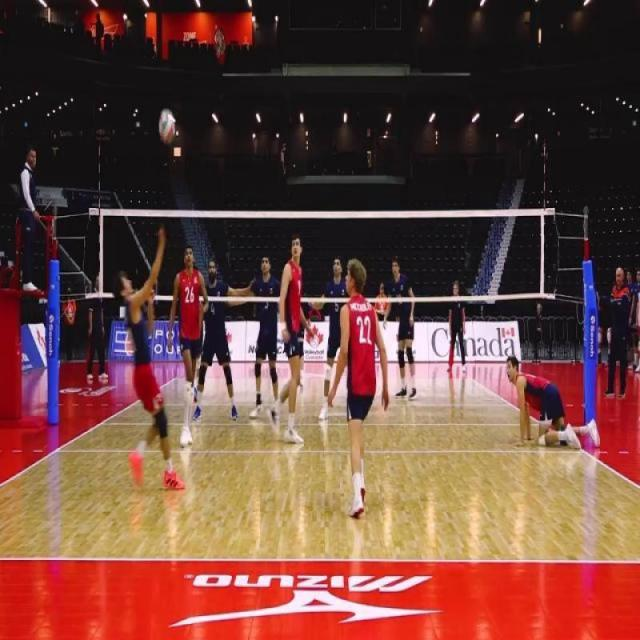volleyball: (158, 106, 176, 146)
